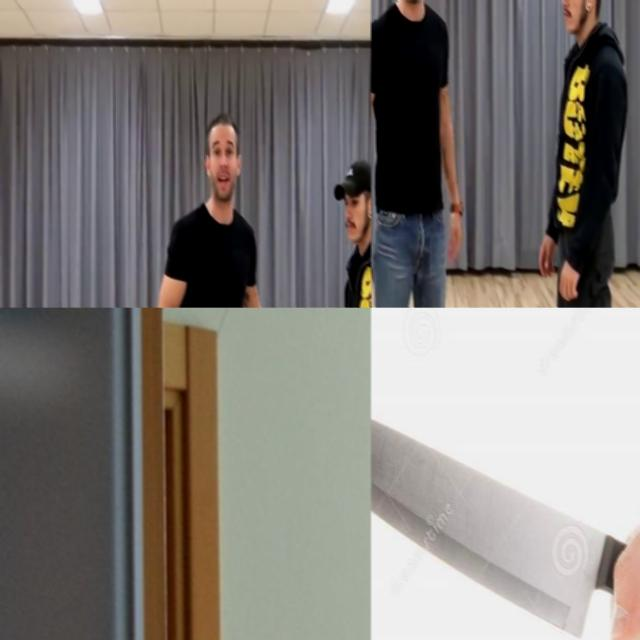Knife: (371, 419, 625, 635)
